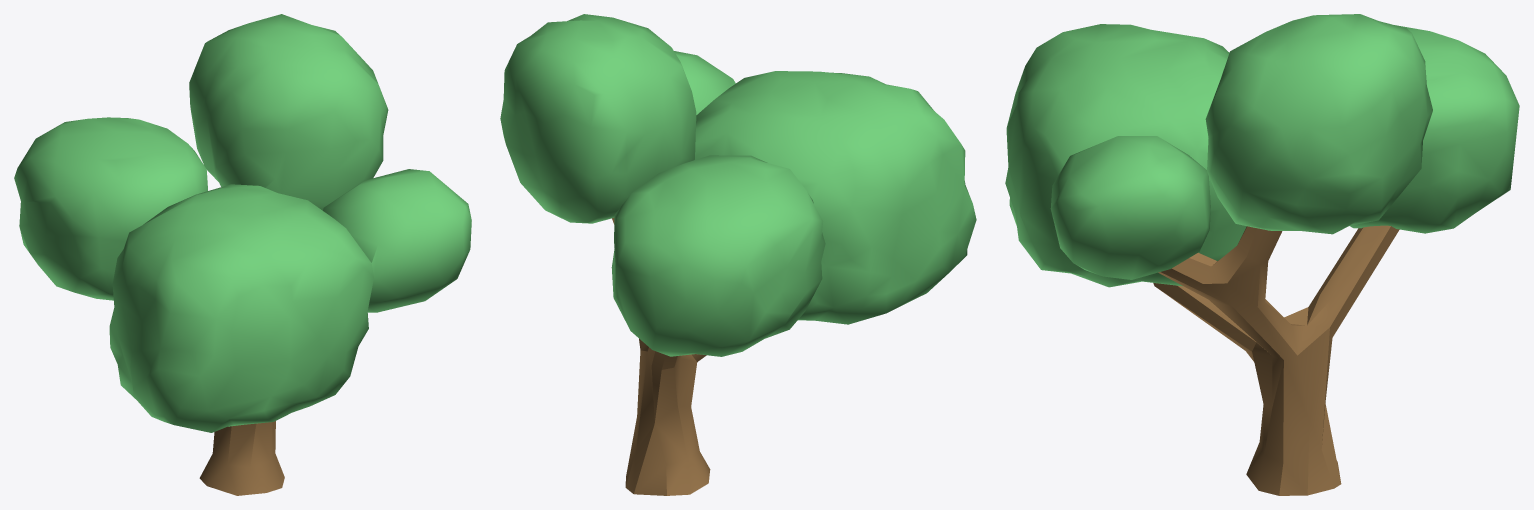
File: oak2.glb
The picture shows the model from 3 angles, left to right: view 1: azimuth 30°, elevation 25°; view 2: azimuth 150°, elevation 25°; view 3: azimuth 270°, elevation 25°; orthographic projection. The views are drawn at different scales.
Visible parts, largest first — view 1: oak_leaves_2, oak_trunk_2; view 2: oak_leaves_2, oak_trunk_2; view 3: oak_leaves_2, oak_trunk_2.
Boxes of the visible parts, bbox=[...] form: oak_leaves_2: bbox=[14, 14, 471, 432]; oak_trunk_2: bbox=[199, 421, 284, 495]; oak_leaves_2: bbox=[500, 14, 976, 356]; oak_trunk_2: bbox=[612, 218, 710, 495]; oak_leaves_2: bbox=[1005, 14, 1519, 287]; oak_trunk_2: bbox=[1153, 225, 1399, 495].
Bounding box in the file's own units: 9 × 11.15 × 10.78.
